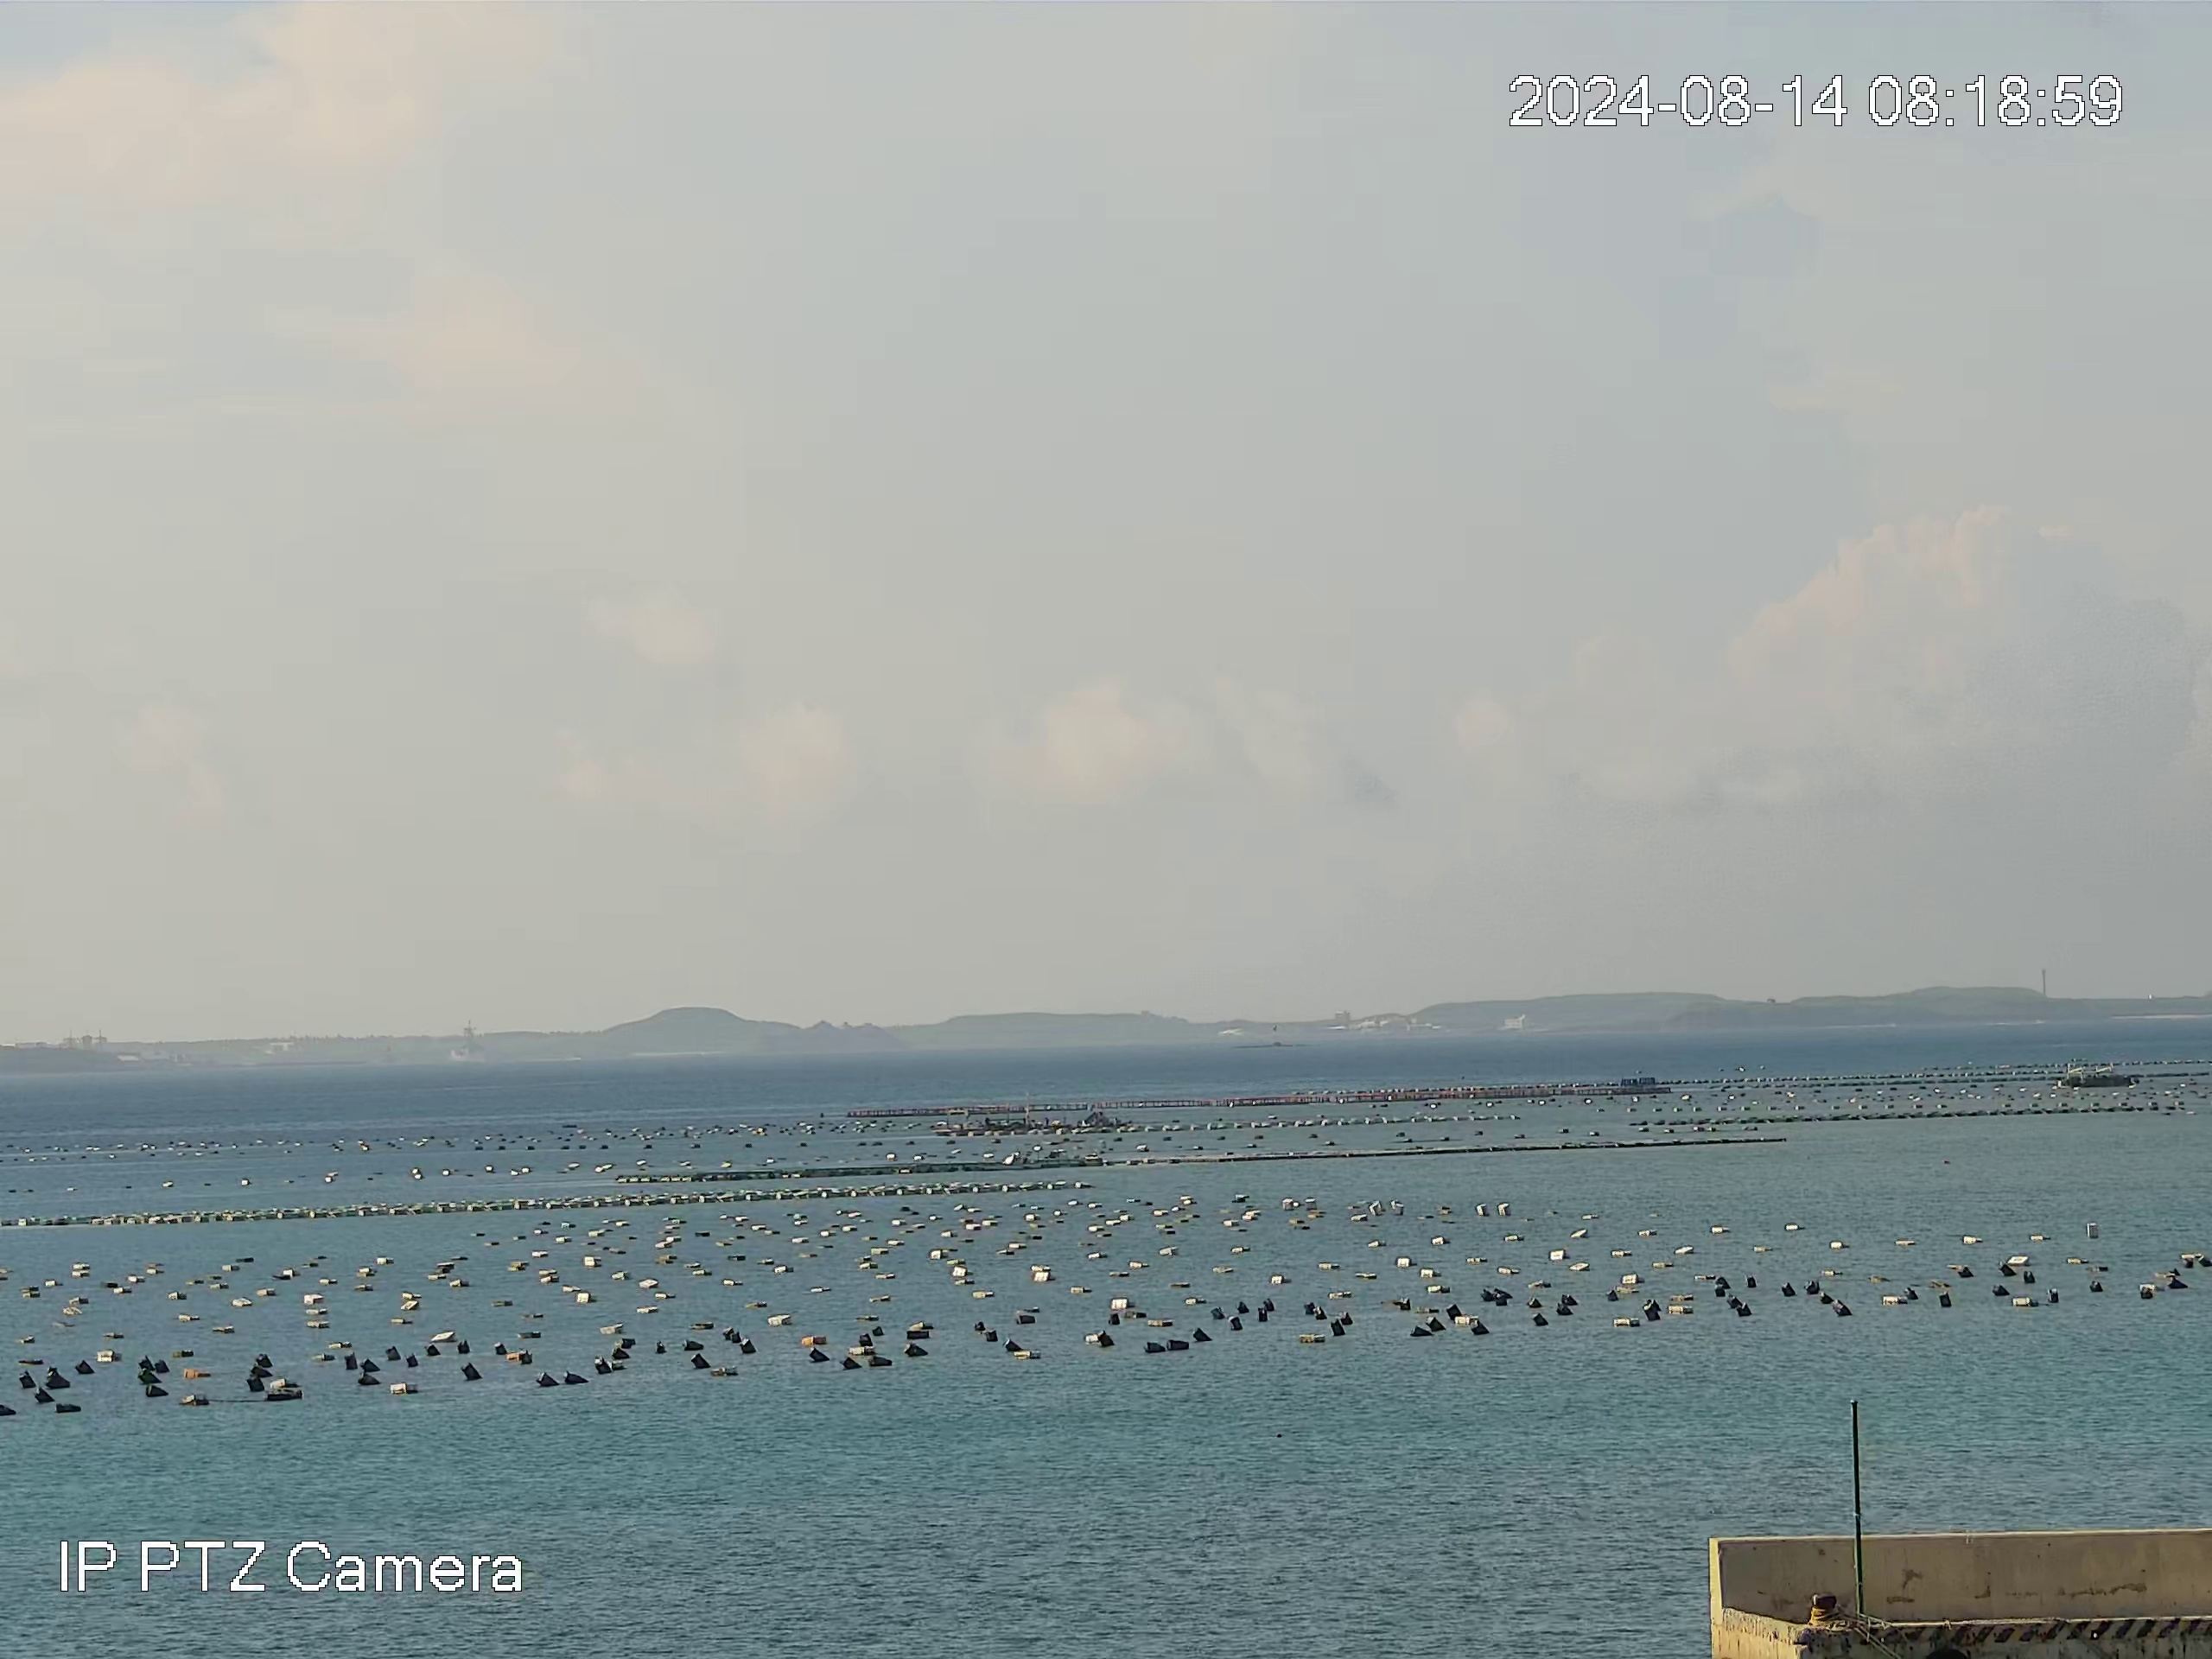boat: (2054, 1056, 2141, 1093)
